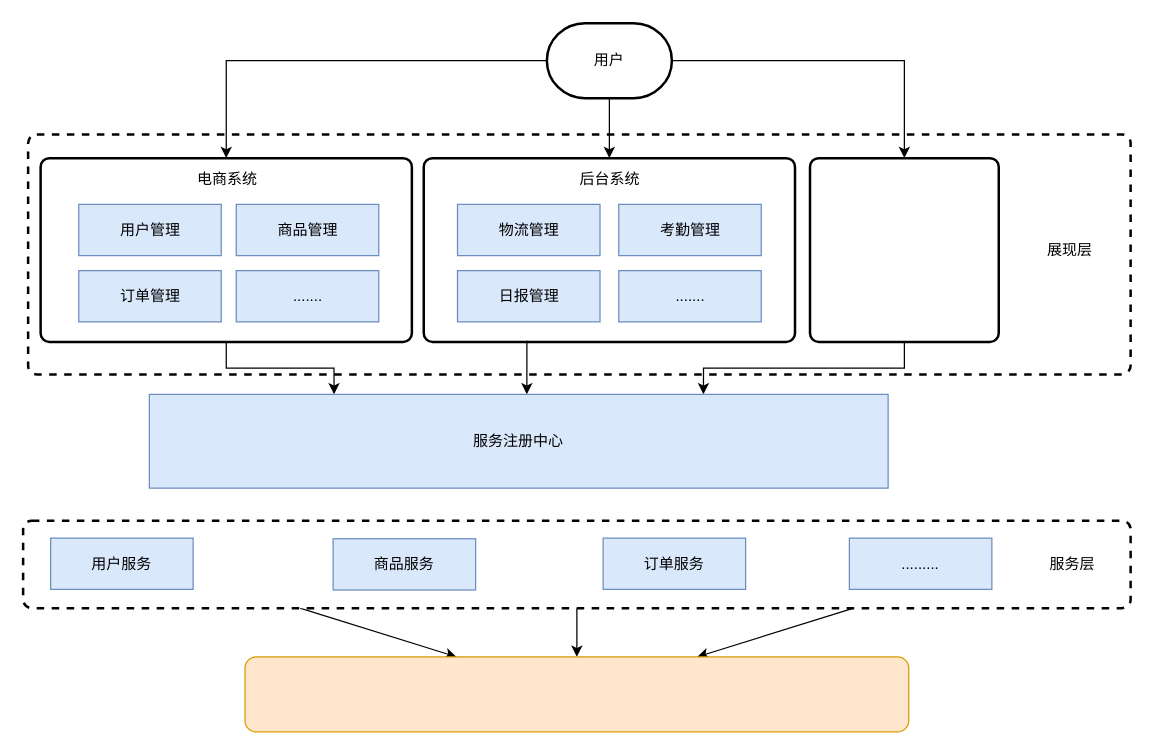
Some shapes in this 1153 by 754 pixel diagram are drawn without their labels. Each missing label, with the box of its shape:
CMS(内容管理系统), CRM(客户关系管理系统), ERP(企业资源计划系统) ......: (808, 156, 999, 342)
后台数据库集群: (244, 656, 909, 732)
